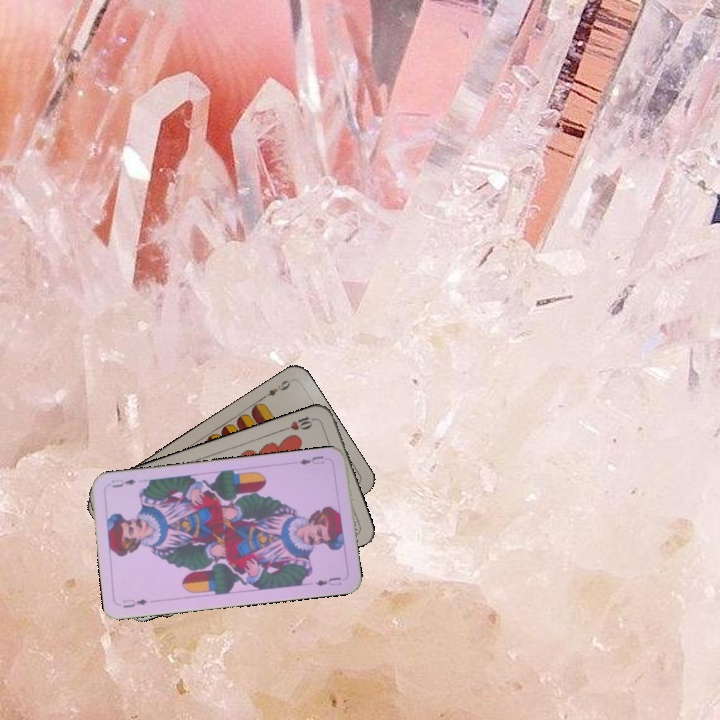E9: (258, 376, 294, 402)
EU: (295, 452, 327, 467), (119, 595, 150, 610)
H10: (279, 412, 319, 433)
